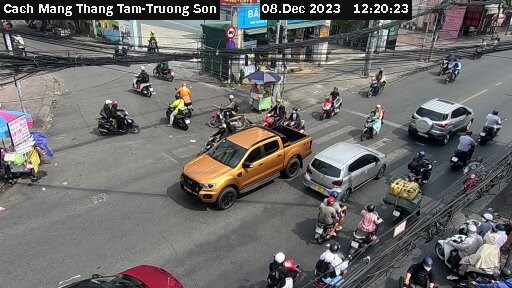car: (170, 125, 312, 209), (40, 257, 188, 288), (308, 139, 387, 194), (411, 94, 474, 144)
motorbike: (441, 222, 503, 285), (306, 242, 360, 284), (93, 99, 144, 143), (346, 202, 388, 252), (262, 246, 306, 288), (312, 196, 350, 232), (124, 70, 163, 103), (158, 96, 193, 132), (363, 65, 401, 96), (316, 83, 351, 116), (458, 155, 493, 188), (445, 133, 482, 163), (168, 81, 202, 112), (403, 155, 440, 183), (212, 97, 251, 123), (149, 58, 184, 85), (357, 106, 387, 137), (477, 106, 508, 136), (436, 51, 461, 75), (444, 63, 467, 83)
